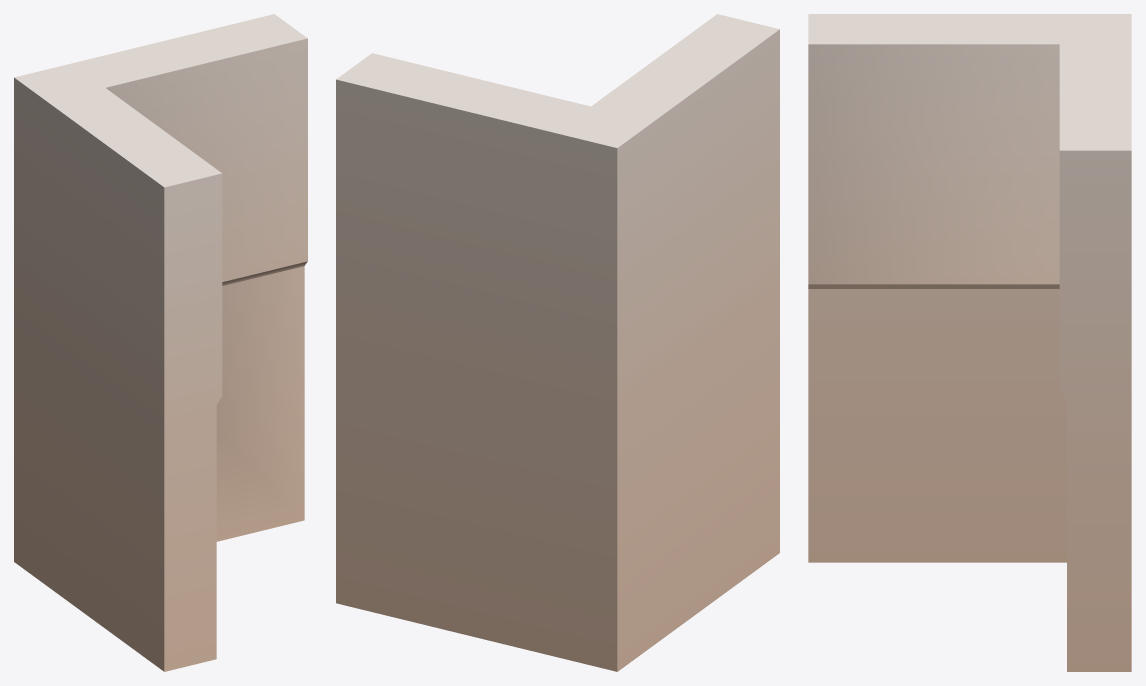
Rendered from Wall Plain Kitchen-o2tecBL394.glb.
The picture shows the model from 3 angles, left to right: view 1: azimuth 30°, elevation 25°; view 2: azimuth 150°, elevation 25°; view 3: azimuth 270°, elevation 25°; orthographic projection. The views are drawn at different scales.
Parts seen in each view (by area): view 1: wall_plain_kitchen_corner_inner; view 2: wall_plain_kitchen_corner_inner; view 3: wall_plain_kitchen_corner_inner.
Boxes of the visible parts, x1,y1,x2,y2 form: wall_plain_kitchen_corner_inner: (14, 14, 307, 671); wall_plain_kitchen_corner_inner: (336, 14, 779, 671); wall_plain_kitchen_corner_inner: (808, 14, 1131, 671).
Bounding box in the file's own units: 2.25 × 4 × 2.25.
1 material, 1 textured.
